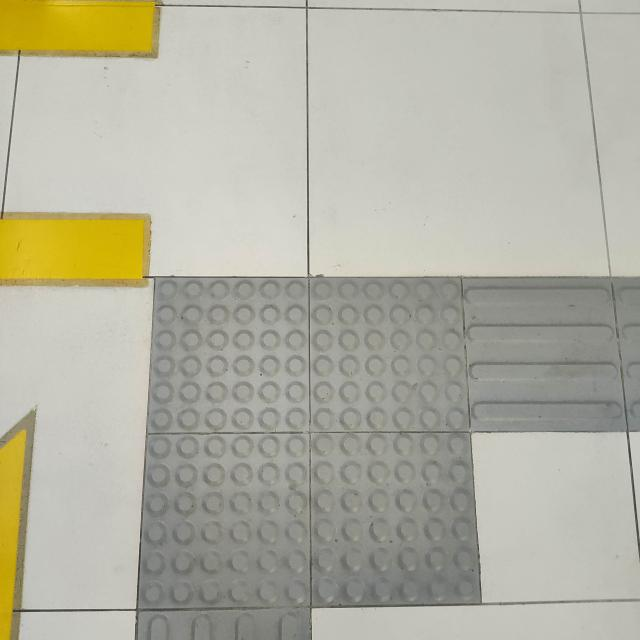kanan: (83, 236, 640, 625)
